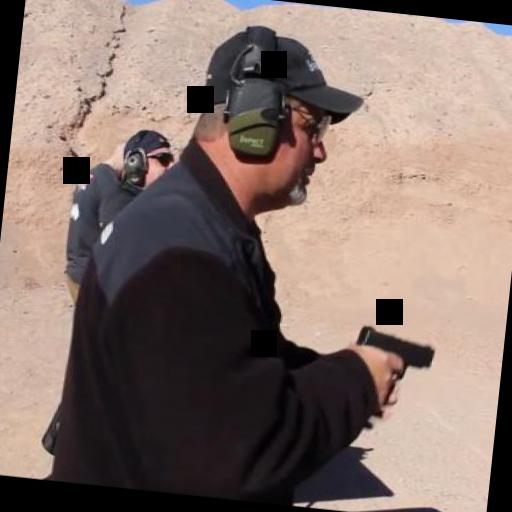Handgun: (345, 322, 439, 418)
